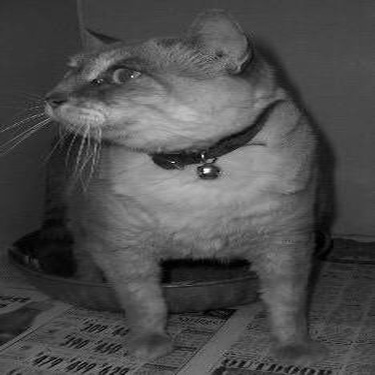cat: (6, 1, 356, 371)
